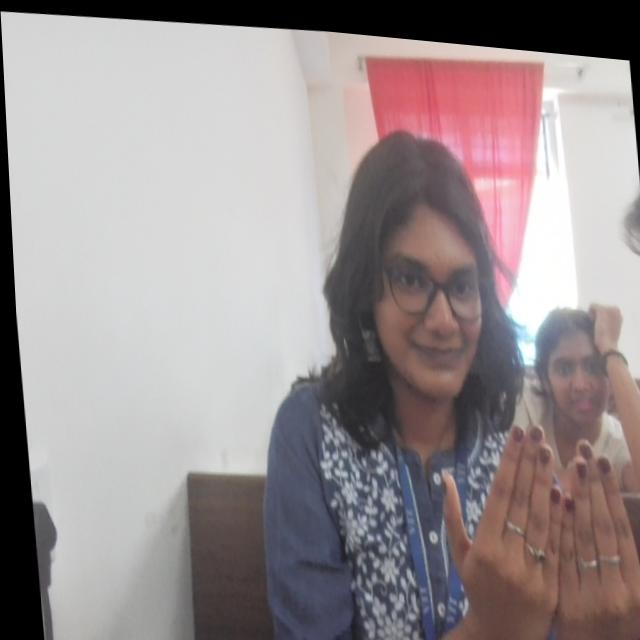thankyou: (427, 398, 640, 640)
